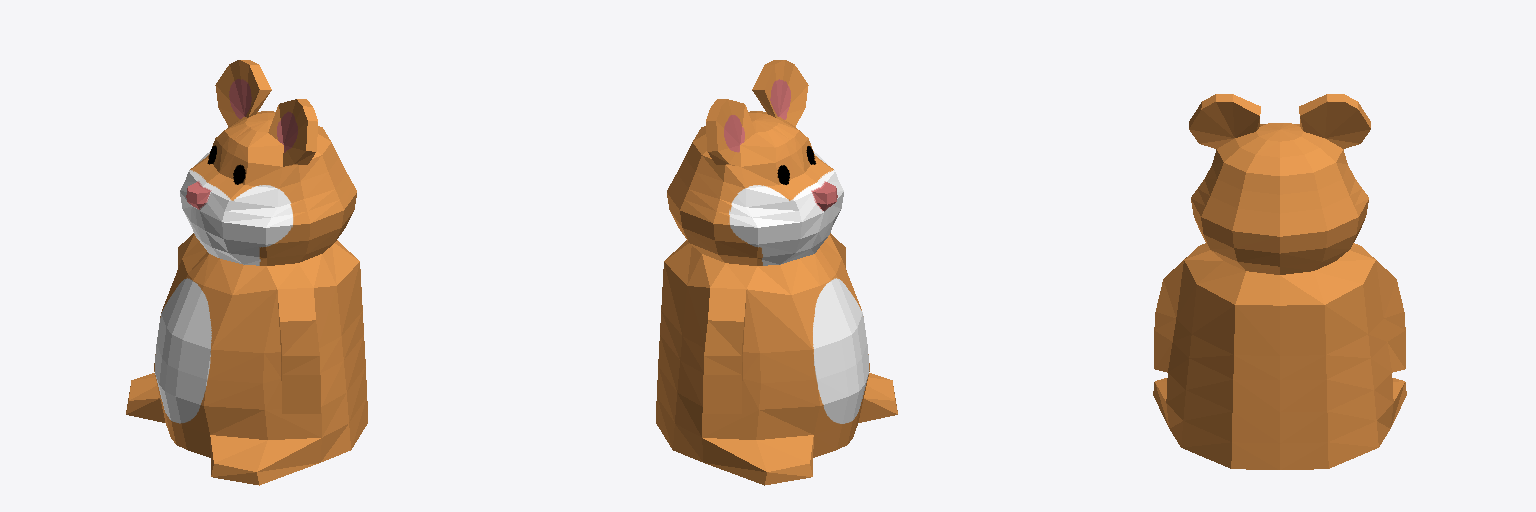
3 views of the same model, side by side, from view 1: azimuth 30°, elevation 25°; view 2: azimuth 150°, elevation 25°; view 3: azimuth 270°, elevation 25° (orthographic).
Visible parts, largest first — view 1: pPipe2; view 2: pPipe2; view 3: pPipe2.
Part boxes in pixels (x1,y1,x2,y2): pPipe2: (126,60,367,485); pPipe2: (656,60,897,485); pPipe2: (1153,94,1406,469).
Bounding box in the file's own units: 1.06 × 1.89 × 1.28.
1 materials, 1 textured.